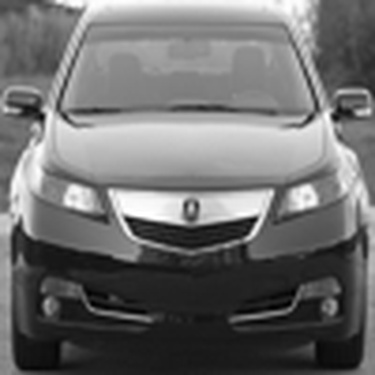car: (8, 1, 370, 356)
